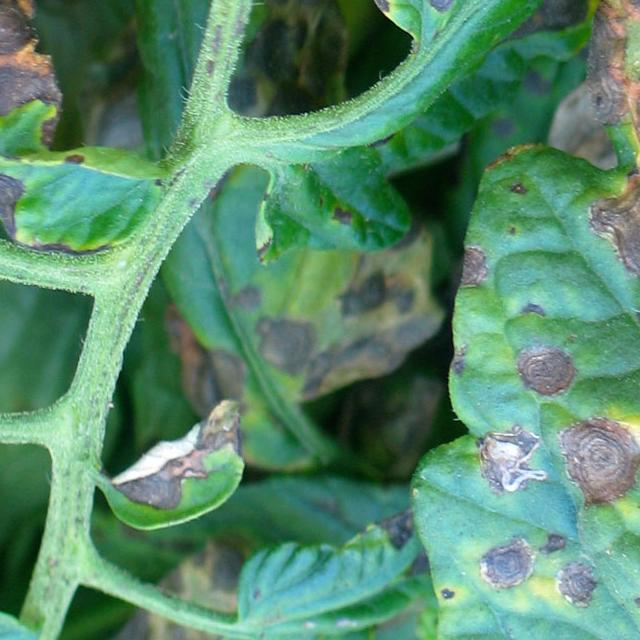Tomato Early blight leaf: (406, 0, 640, 640), (378, 0, 640, 52)
